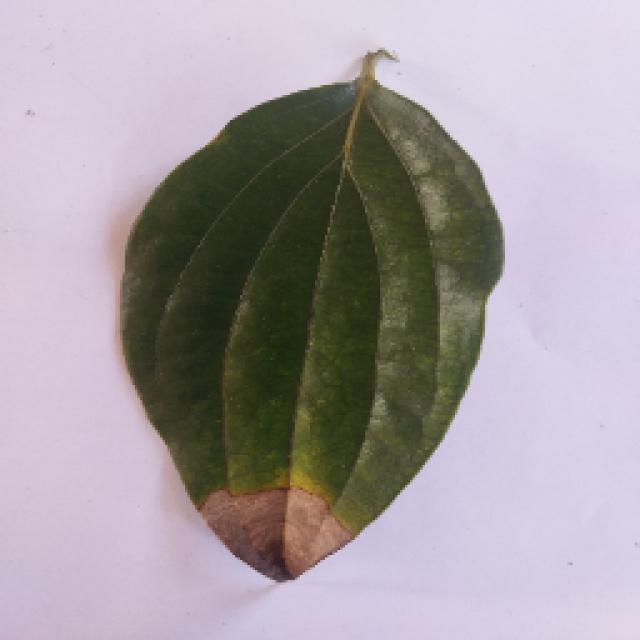footrot: (100, 60, 515, 595)
